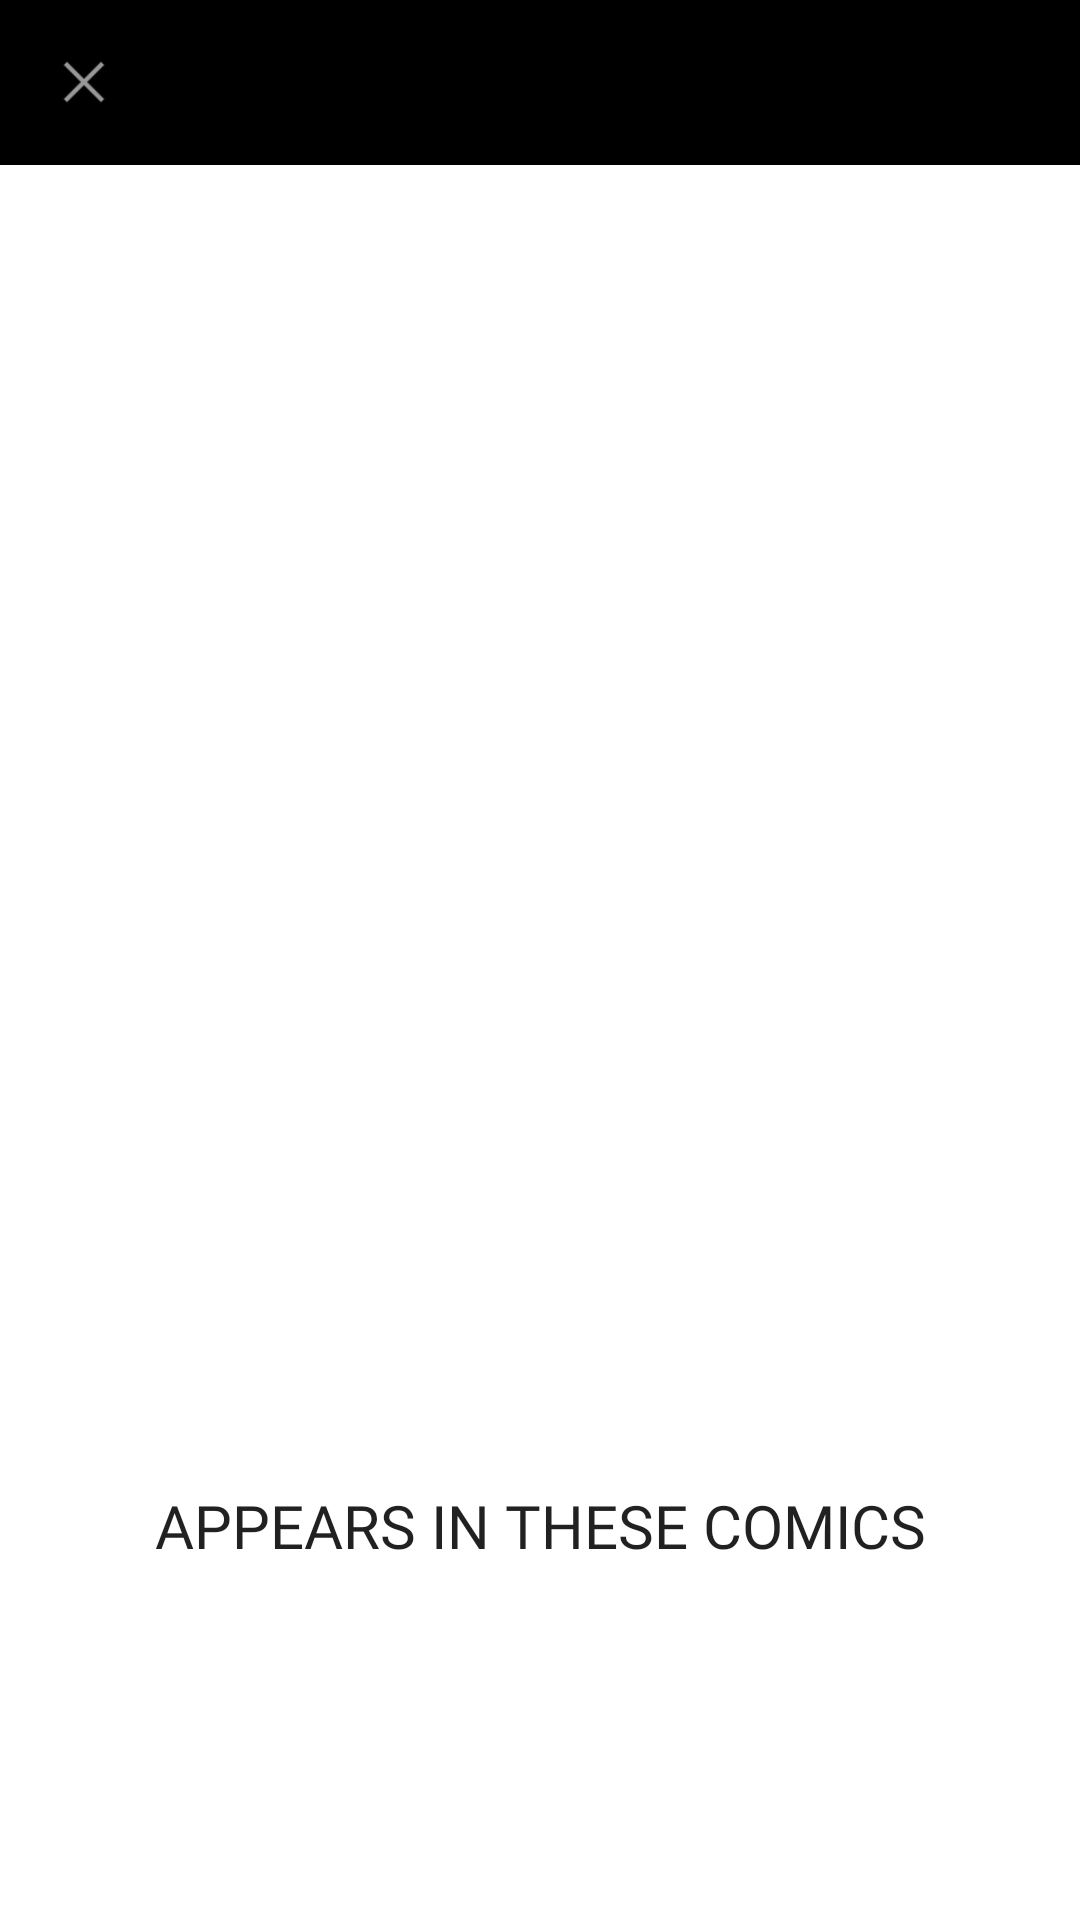

Icon bounding boxes for this 1080×1920 phone screenshot, format {"x1": x1, "y1": y1, "x2": x2, "y2": y2}:
close clear cancel: {"x1": 64, "y1": 62, "x2": 104, "y2": 102}
